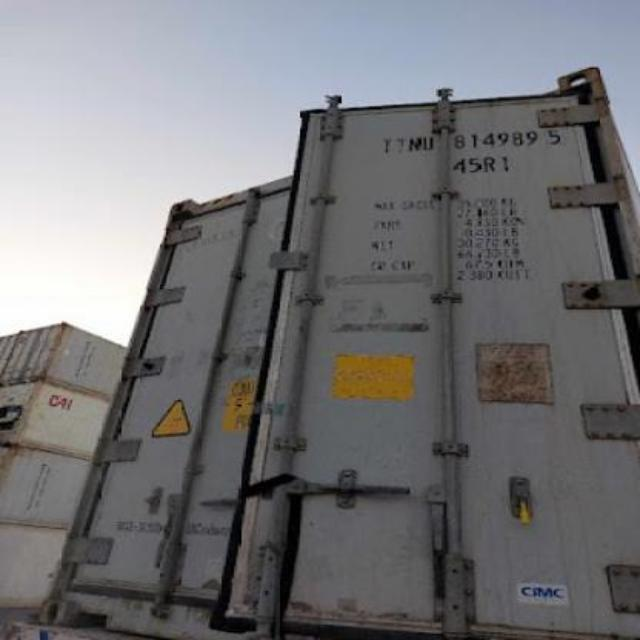1: (466, 134, 479, 148)
4: (482, 132, 494, 150)
5: (546, 127, 562, 145)
8: (452, 134, 466, 150), (511, 132, 524, 146)
9: (496, 132, 508, 148), (524, 132, 540, 144)
N: (408, 135, 420, 155)
T: (392, 134, 406, 156), (381, 136, 394, 154)
U: (421, 135, 434, 153)
